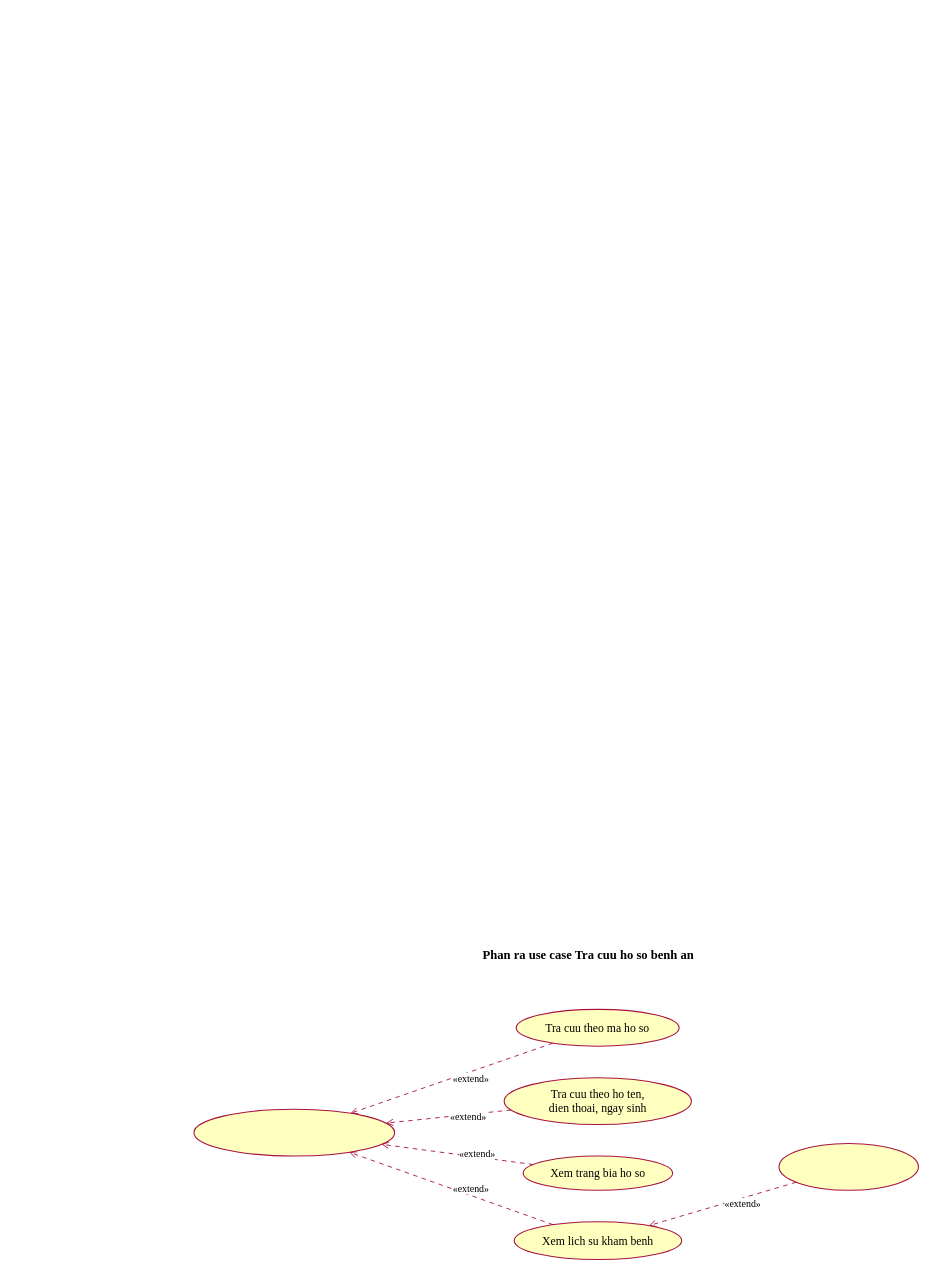
The diagram is 934 pixels wide and 1275 high, and some of its shapes have lost their labels. The shapes that lost their labels are listed below. From the top down, each one's centre as x and y in pixels, then its label:
point (294, 1132): Tra cuu ho so benh an
point (848, 1166): Xem toa thuoc, xet nghiem
